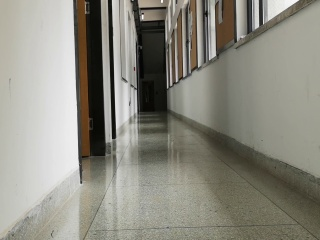room: (71, 2, 108, 162)
